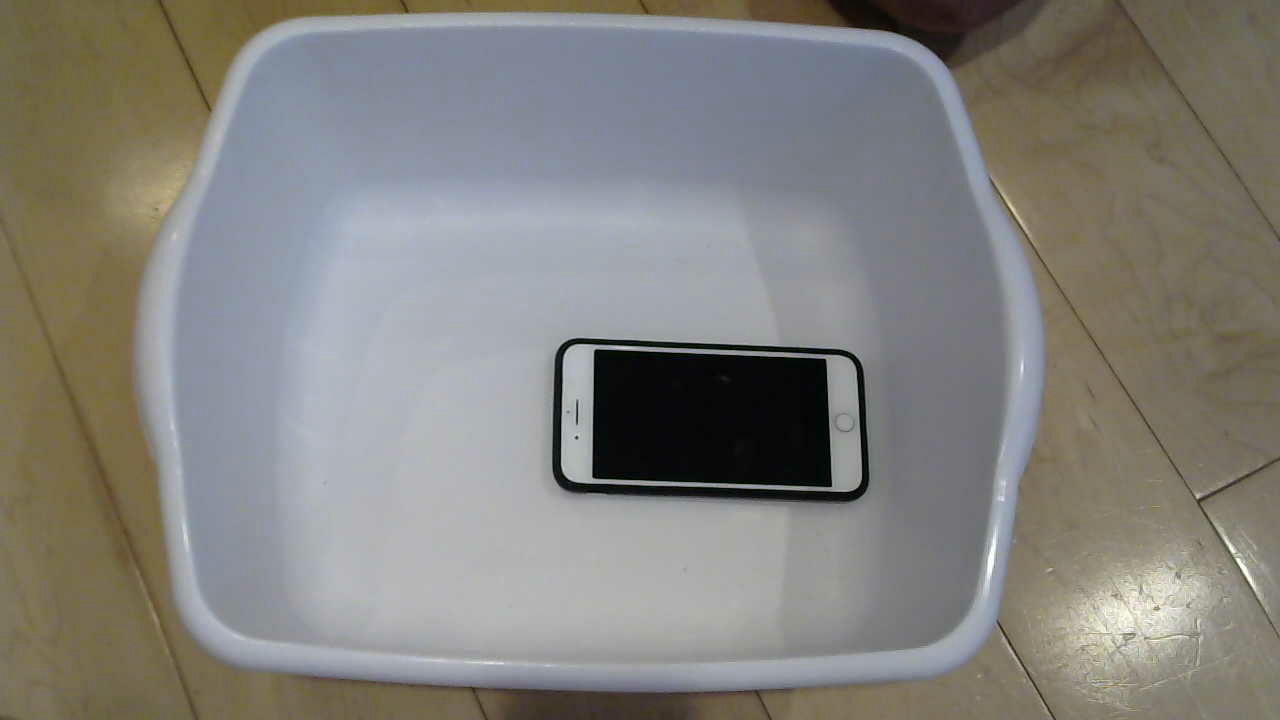phone: (529, 329, 903, 522)
